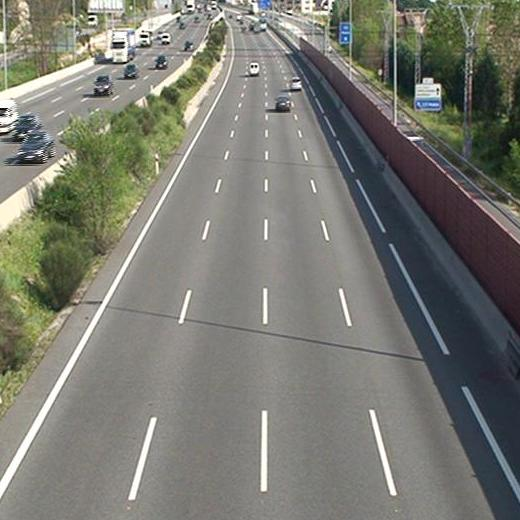car: (275, 98, 290, 111), (290, 77, 301, 90)
van: (249, 63, 259, 76)
